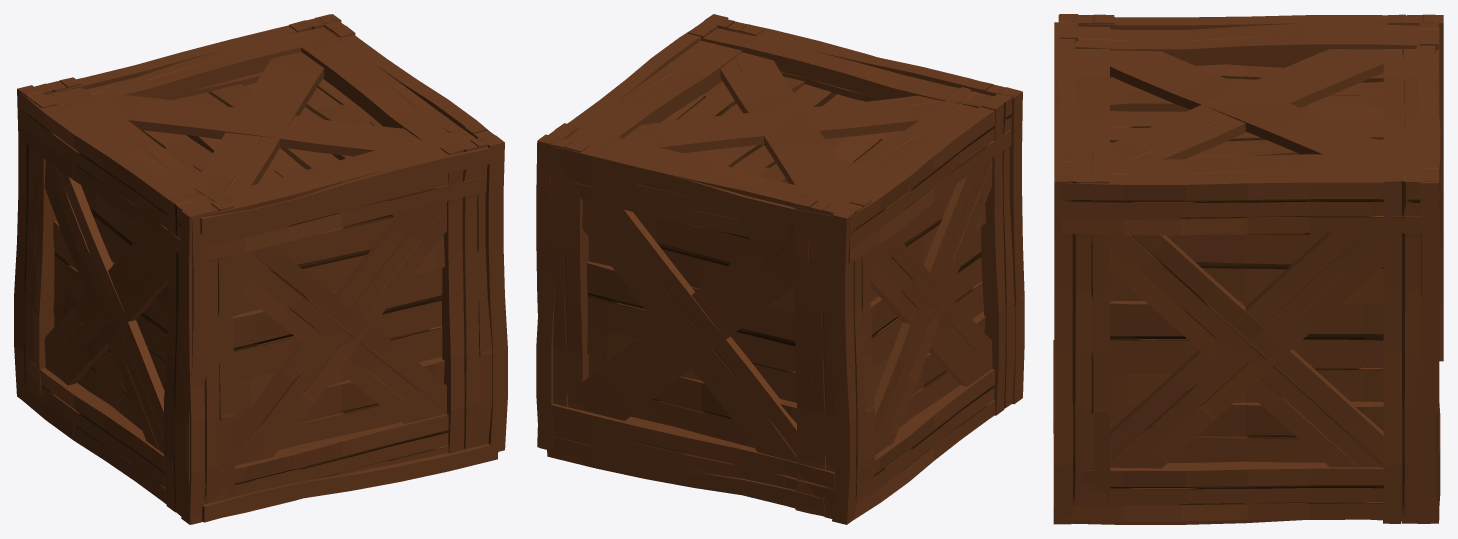
The model's file is Crate.fbx.
The picture shows the model from 3 angles, left to right: view 1: azimuth 30°, elevation 25°; view 2: azimuth 150°, elevation 25°; view 3: azimuth 270°, elevation 25°; orthographic projection. The views are drawn at different scales.
Visible parts, largest first — view 1: Cube.010, Cube.017, Cube.019, Cube.001, Cube.018, Cube.020, Cube.013, Cube.012, Cube.007, Cube.005, Cube.004, Cube.021 (+2 smaller); view 2: Cube.009, Cube.017, Cube.011, Cube.019, Cube.002, Cube.018, Cube.020, Cube.005, Cube.007, Cube.010, Cube.004, Cube.021 (+1 smaller); view 3: Cube.007, Cube.008, Cube.003, Cube.019, Cube.020, Cube.009, Cube.004, Cube.017, Cube.010, Cube.021.
Boxes of the visible parts, x1,y1,x2,y2 form: Cube.010: (180,137,492,524); Cube.017: (14,85,208,524); Cube.019: (46,27,496,234); Cube.001: (233,212,444,450); Cube.018: (44,160,168,453); Cube.020: (101,52,419,192); Cube.013: (235,201,446,465); Cube.012: (233,246,446,423); Cube.007: (315,14,507,451); Cube.005: (53,185,168,430); Cube.004: (141,79,382,183); Cube.021: (201,443,498,522); Cube.009: (536,134,847,518); Cube.017: (830,90,1023,524); Cube.011: (575,199,796,462); Cube.019: (554,23,993,231); Cube.002: (587,212,796,447); Cube.018: (870,158,992,454); Cube.020: (623,52,943,190); Cube.005: (870,185,985,427); Cube.007: (536,14,728,451); Cube.010: (713,19,1024,404); Cube.004: (660,77,903,183); Cube.021: (547,450,830,514); Cube.007: (1054,173,1439,521); Cube.008: (1110,233,1383,468); Cube.003: (1110,233,1383,462); Cube.019: (1054,21,1439,177); Cube.020: (1110,49,1392,159); Cube.009: (1416,20,1440,521); Cube.004: (1110,64,1383,159); Cube.017: (1058,14,1443,361); Cube.010: (1055,14,1079,176); Cube.021: (1053,340,1438,524).
Bounding box in the file's own units: 467 × 447 × 454.
